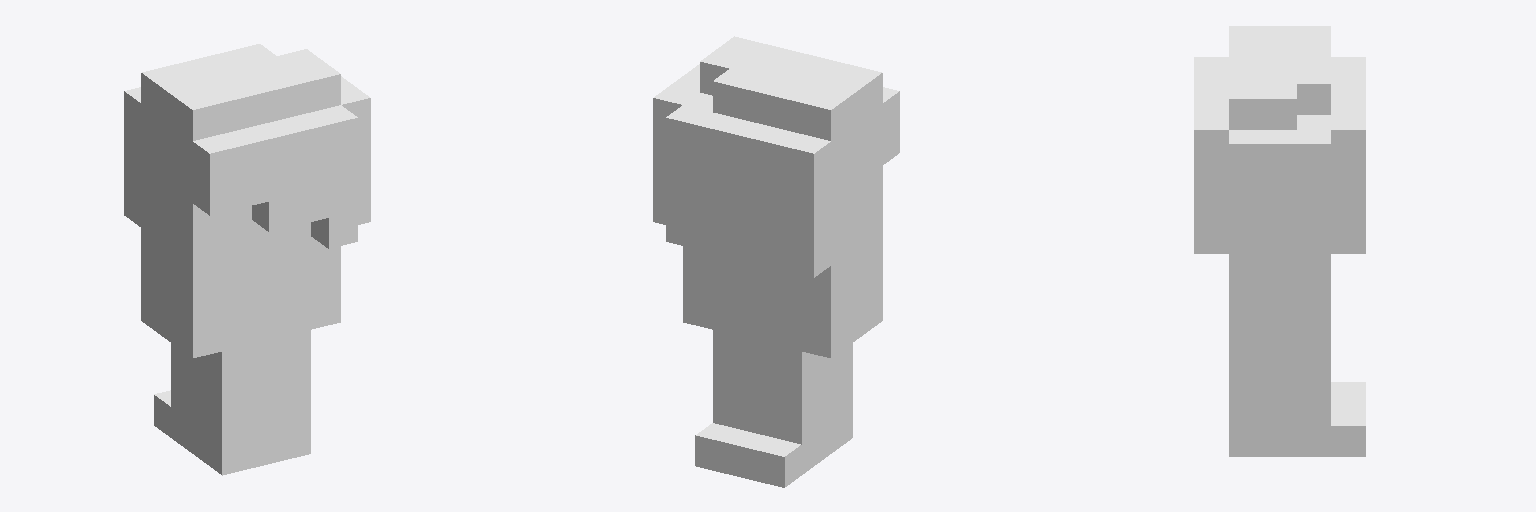
File: Leg_R_D.obj
3 views of the same model, side by side, from view 1: azimuth 30°, elevation 25°; view 2: azimuth 150°, elevation 25°; view 3: azimuth 270°, elevation 25° (orthographic).
Visible parts, largest first — view 1: object 1; view 2: object 1; view 3: object 1.
Part boxes in pixels (left/top/right/bottom): object 1: left=124, top=44, right=370, bottom=475; object 1: left=653, top=36, right=899, bottom=487; object 1: left=1194, top=26, right=1365, bottom=456.
Size of the model in its own units: 0.6 by 1.2 by 0.5.